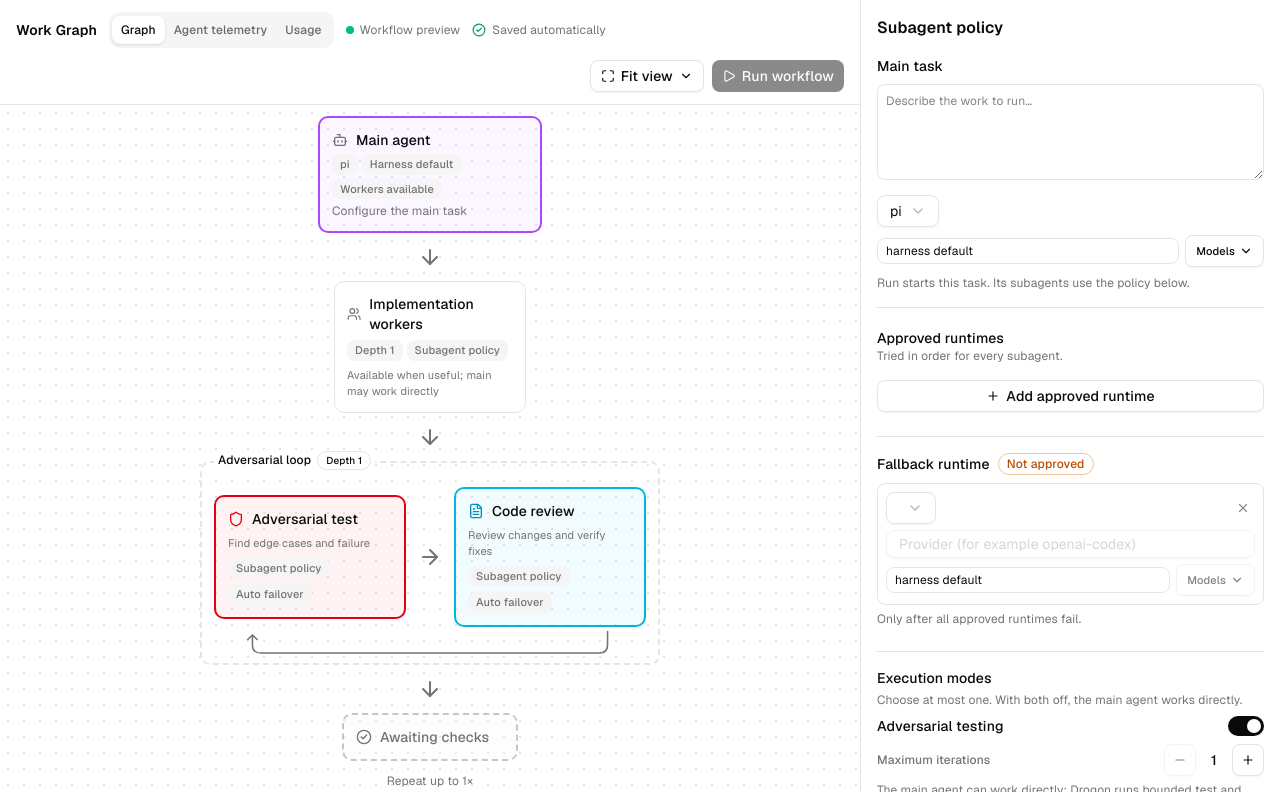
Test case: WorkGraphPane durable orchestrator › retries the unsaved main task with the next policy edit before reporting Saved
This screenshot has width=1280, height=792.
Type "Do not lose this task" into the text box named "Main task". click: point(1070, 132)
box: [877,84,1264,180]
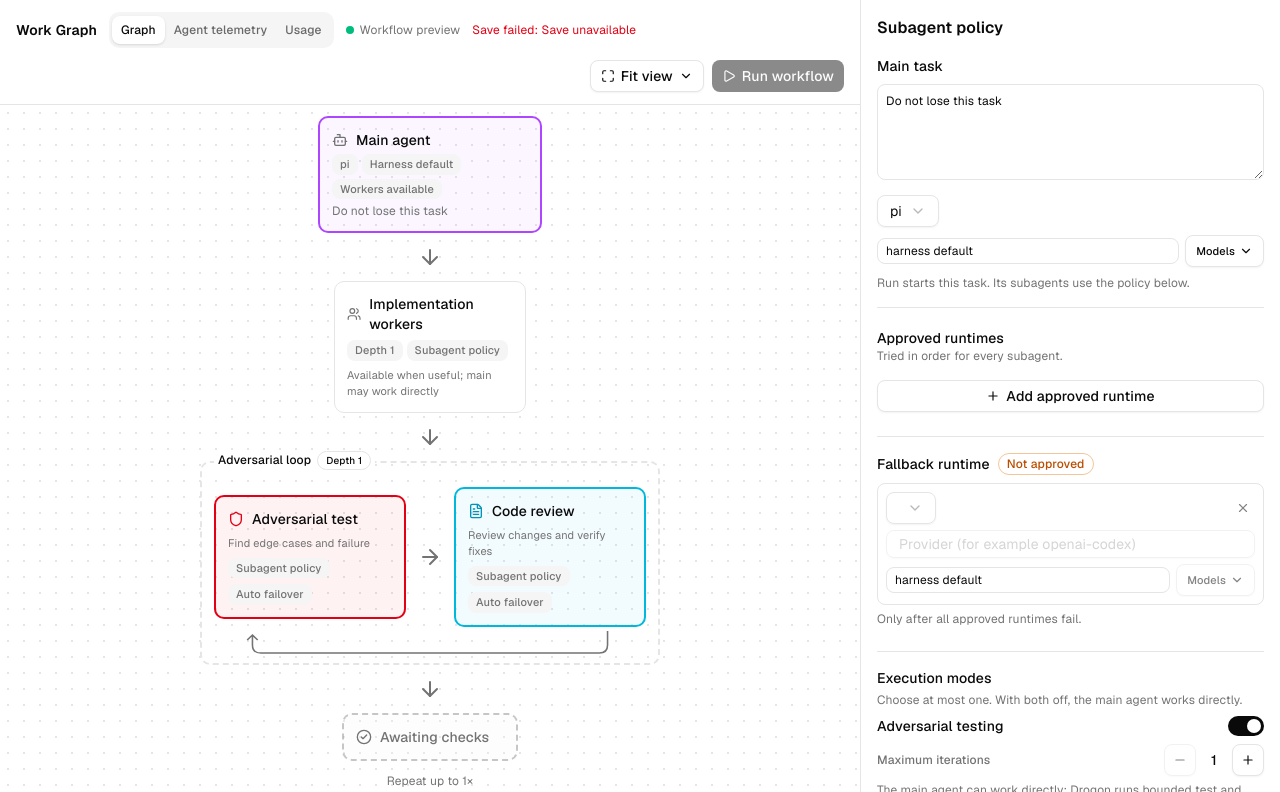
Expected: the element with test id "orchestrator-save-status" shows "Save failed", [472,22,535,38]
Click the switch with test id "adversarial-toggle". click: point(1246, 726)
box: [1228,716,1264,736]
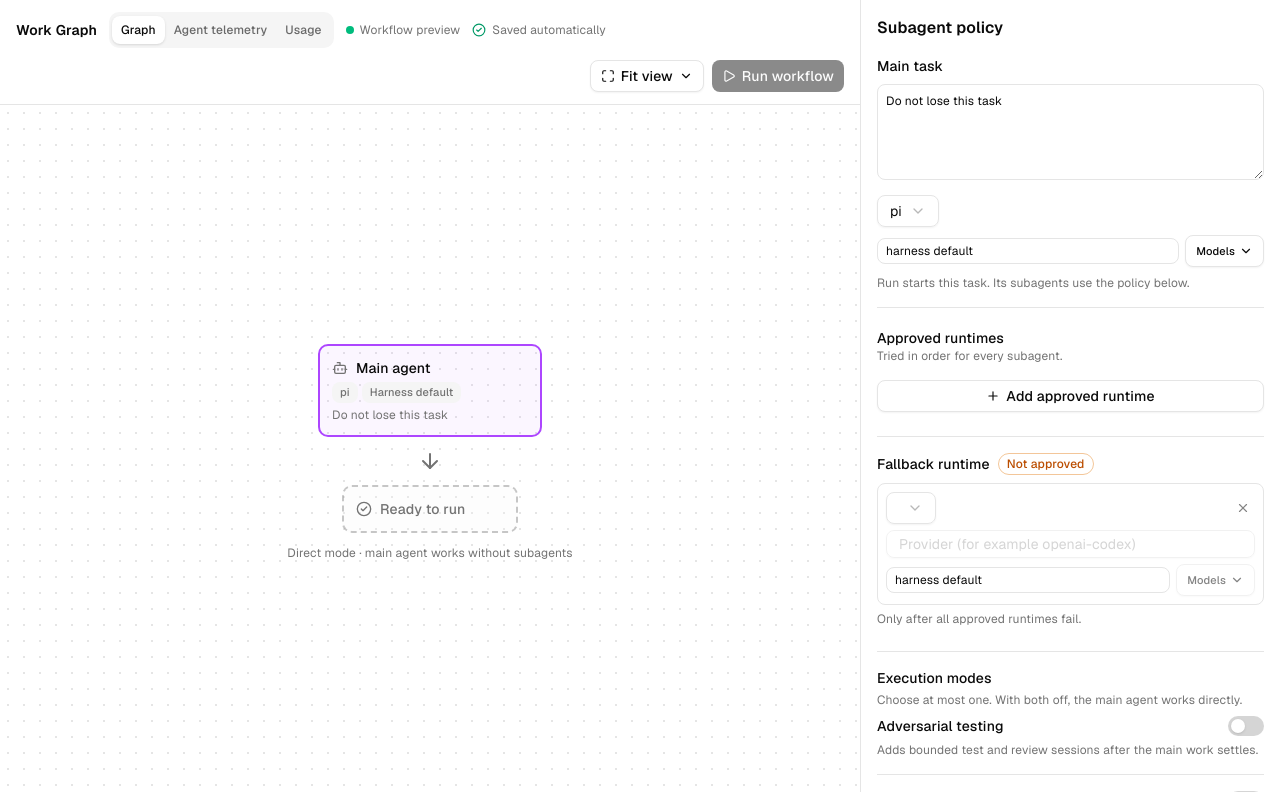
Expected: the element with test id "orchestrator-save-status" reads "Saved automatically", [492,22,606,38]
